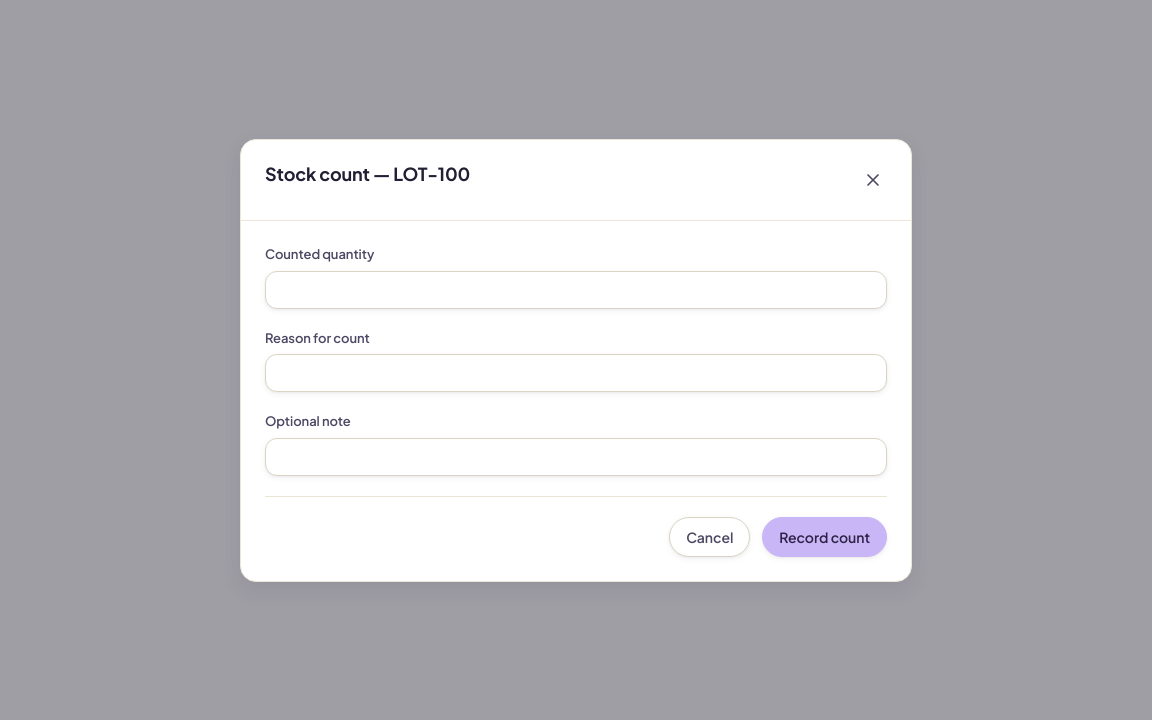
CountBatchModal › blocks negative counted quantity
Type "-1" into the number field labelled "Counted quantity" at (576, 289), box [265,270,887,308]
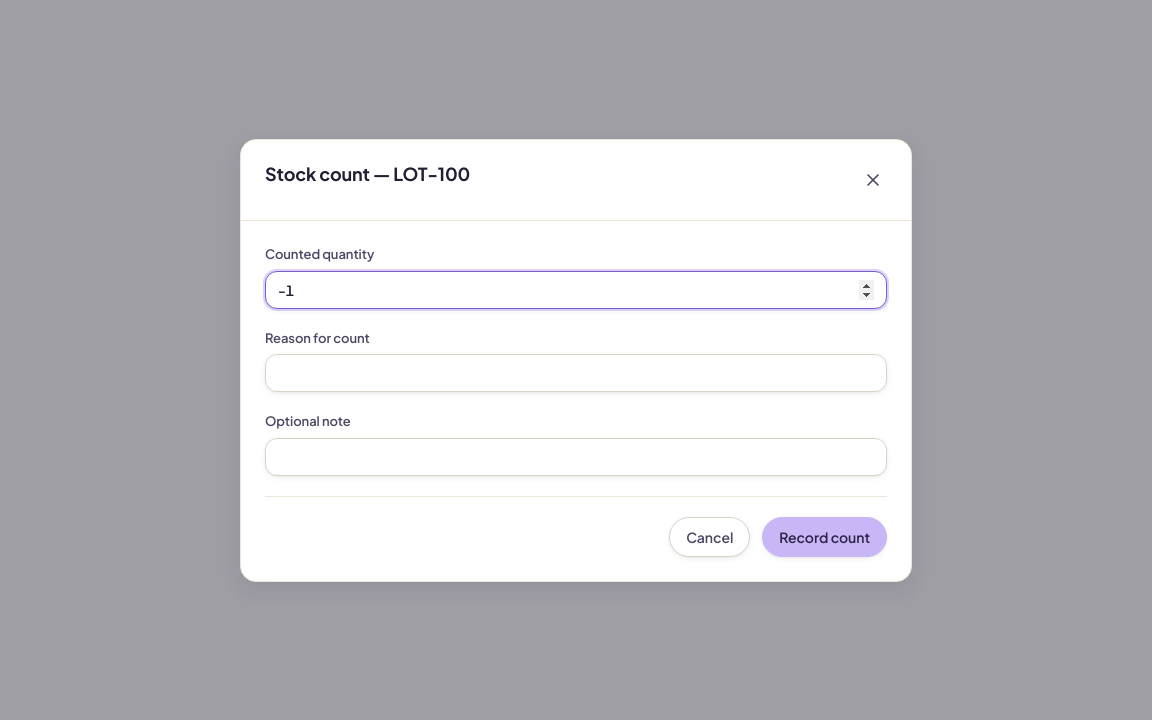
Click the button "Record count" at (825, 536), box [762,516,887,556]
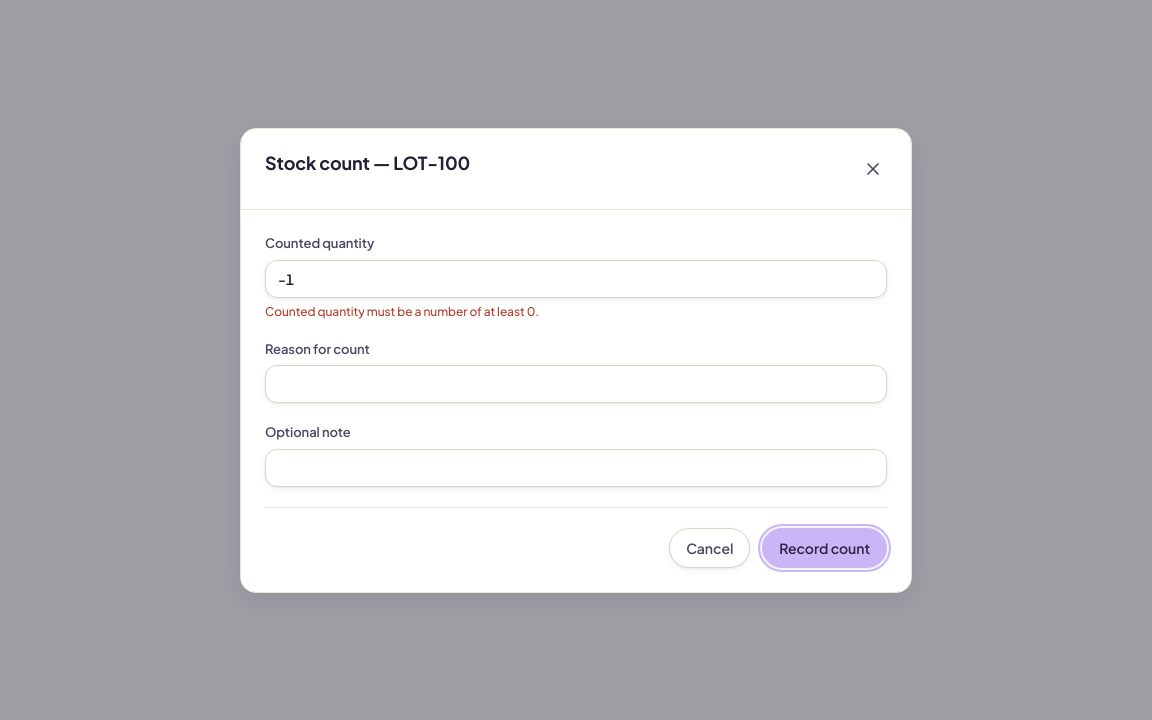
Check: the list item "Counted quantity must be a number of at least 0." is shown, box [265,303,539,318]
